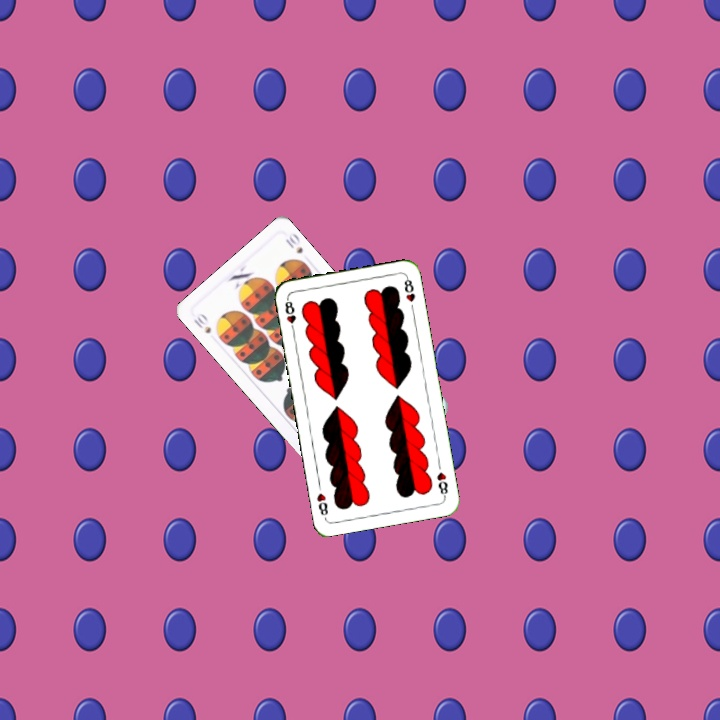H8: (281, 294, 298, 335), (433, 468, 451, 500)
S10: (189, 309, 214, 336)
